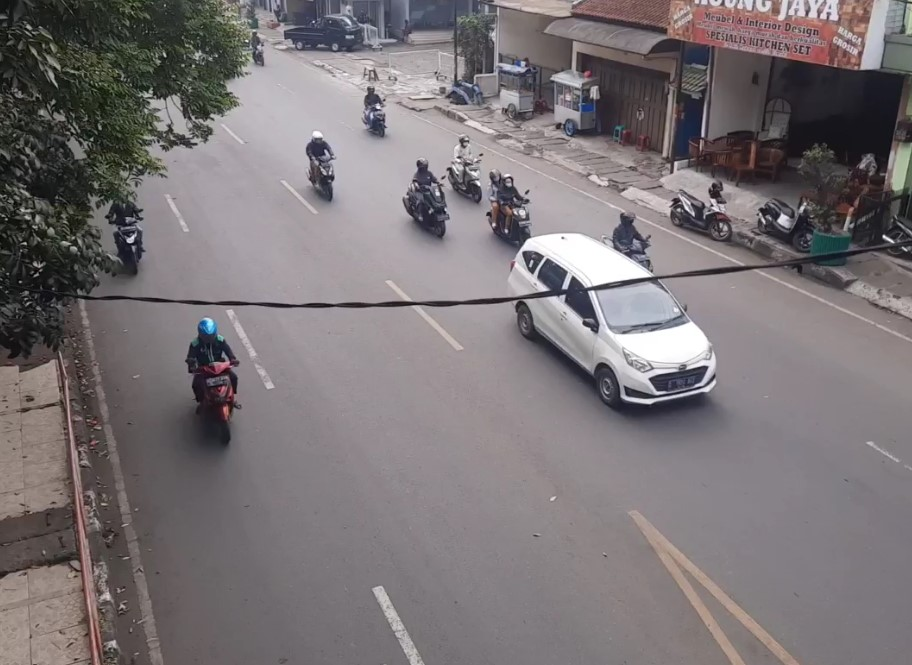mobil: (591, 278, 716, 410)
motor: (184, 317, 243, 452), (487, 167, 535, 250), (401, 157, 448, 240), (106, 190, 146, 280), (444, 133, 486, 203), (301, 130, 338, 203), (360, 84, 387, 140)
